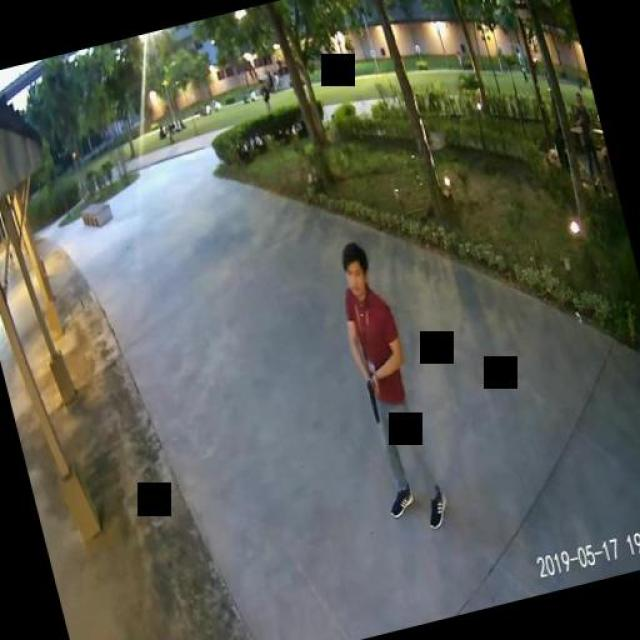gun: (361, 372, 385, 422)
